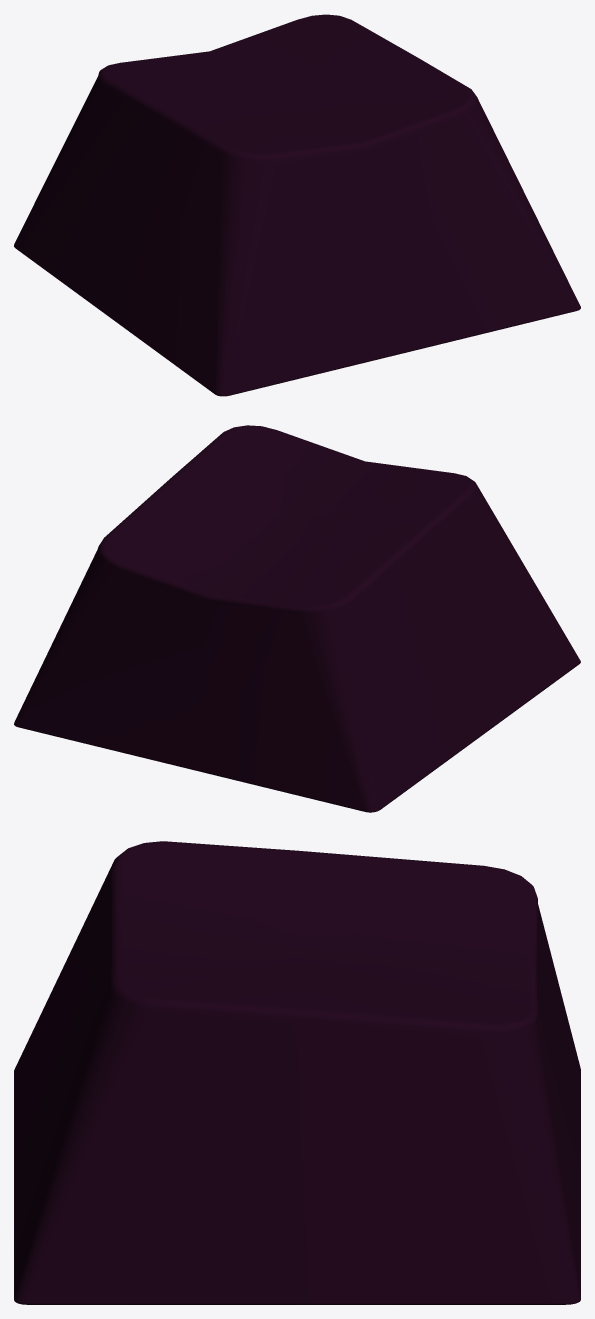
3 views of the same model, one above another, from view 1: azimuth 30°, elevation 25°; view 2: azimuth 150°, elevation 25°; view 3: azimuth 270°, elevation 25° (orthographic). The views are drawn at different scales.
Parts seen in each view (by area): view 1: R3_1U_Mesh.001; view 2: R3_1U_Mesh.001; view 3: R3_1U_Mesh.001.
Boxes of the visible parts, bbox=[...] form: R3_1U_Mesh.001: bbox=[14, 14, 580, 396]; R3_1U_Mesh.001: bbox=[14, 425, 580, 812]; R3_1U_Mesh.001: bbox=[14, 841, 580, 1304].
Bounding box in the file's own units: 0.0181 × 0.00926 × 0.018.
